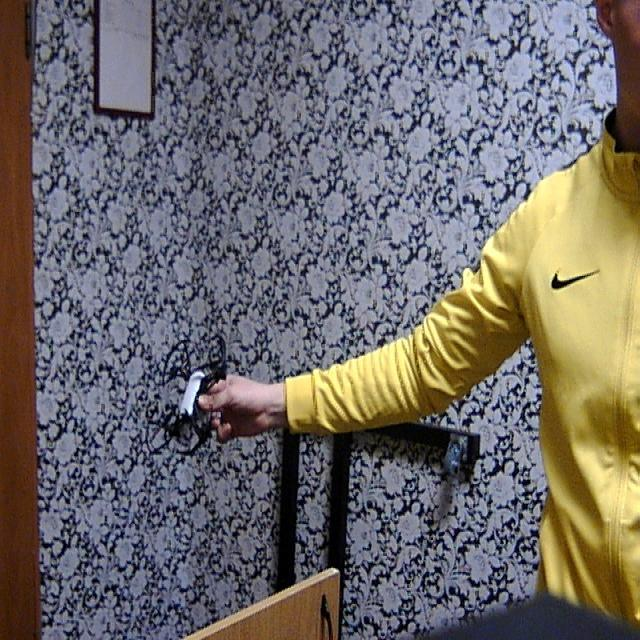drone: (141, 332, 241, 464)
